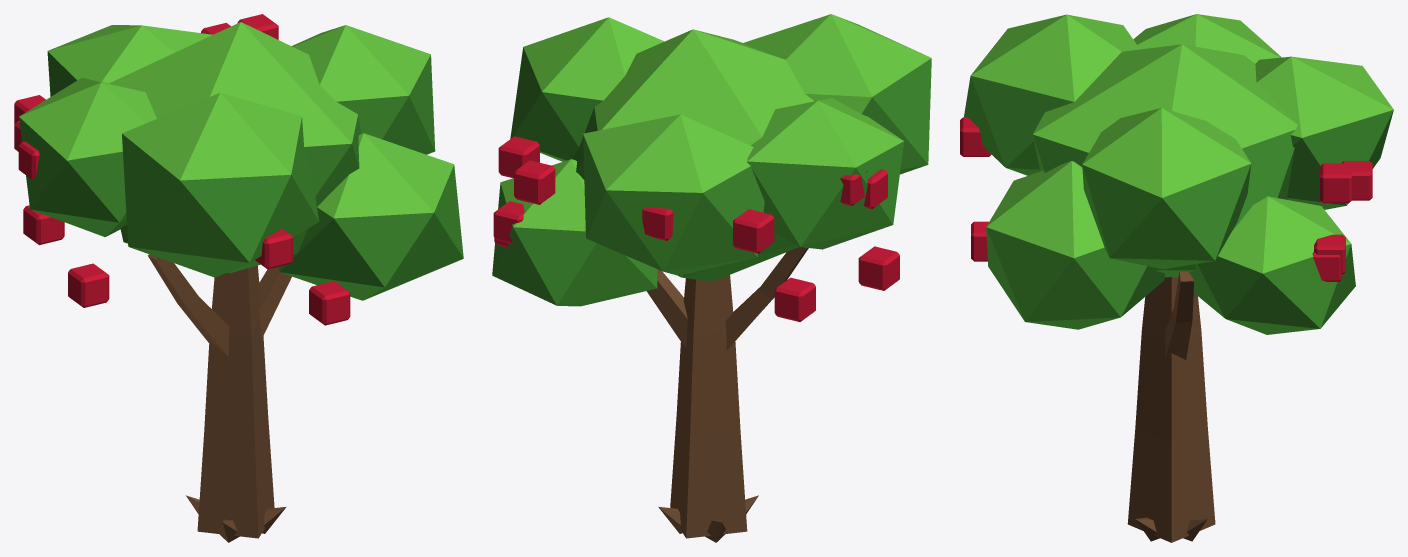
The model's file is CherryTree.fbx.
3 views of the same model, side by side, from view 1: azimuth 30°, elevation 25°; view 2: azimuth 150°, elevation 25°; view 3: azimuth 270°, elevation 25° (orthographic).
Visible parts, largest first — view 1: CherryTree; view 2: CherryTree; view 3: CherryTree.
Boxes of the visible parts, <box> form: CherryTree: <box>14,14,463,542</box>; CherryTree: <box>492,14,931,542</box>; CherryTree: <box>960,14,1393,542</box>.
Size of the model in its own units: 11.45 by 14.27 by 11.37.
1 material, 1 textured.
